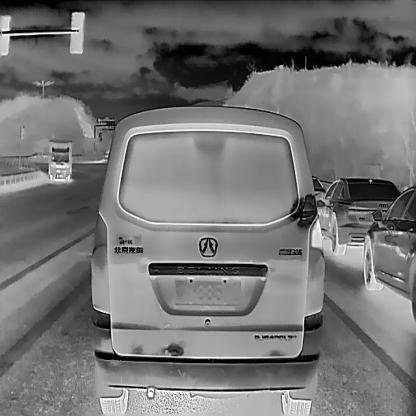car: (88, 104, 325, 413), (363, 185, 415, 323), (315, 176, 403, 257), (47, 137, 73, 182)
